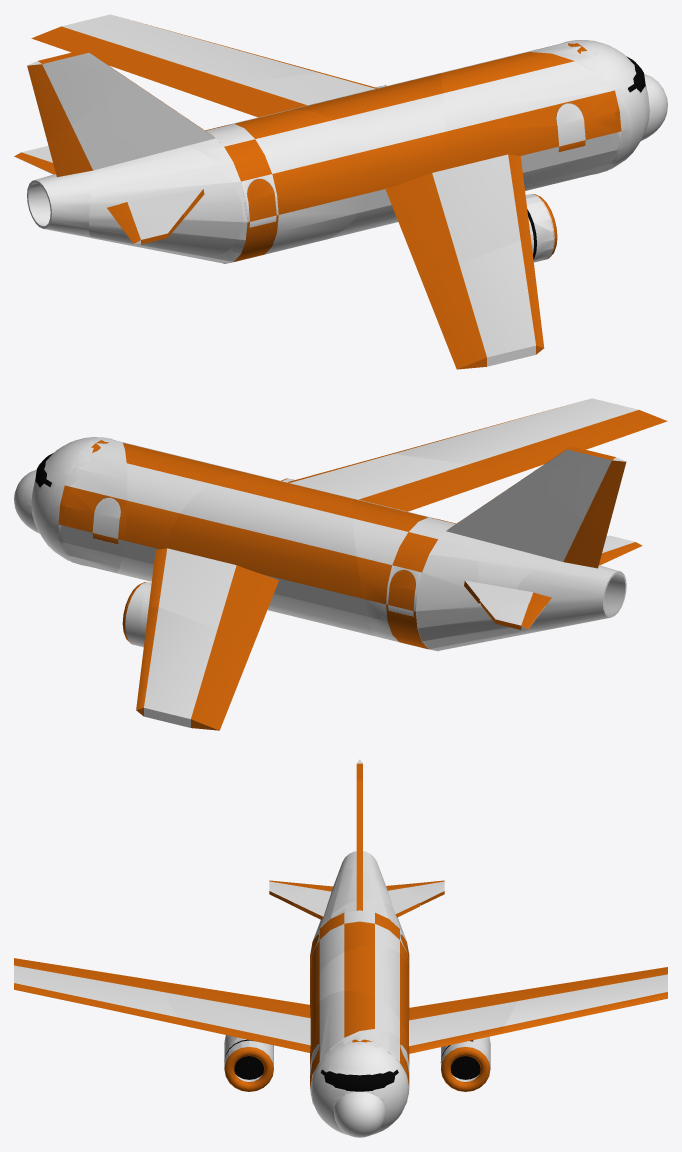
Rendered from planeabouttodroplol.fbx.
The picture shows the model from 3 angles, top to bottom: view 1: azimuth 30°, elevation 25°; view 2: azimuth 150°, elevation 25°; view 3: azimuth 270°, elevation 25°; orthographic projection. The views are drawn at different scales.
Parts seen in each view (by area): view 1: polySurface37, polySurface38, polySurface11, polySurface12, polySurface40, polySurface43, polySurface14, polySurface35, polySurface34, polySurface36, polySurface13, polySurface39 (+7 smaller); view 2: polySurface40, polySurface38, polySurface36, polySurface14, polySurface12, polySurface13, polySurface37, polySurface35, polySurface11, polySurface39, polySurface34, polySurface43 (+6 smaller); view 3: polySurface36, polySurface11, polySurface14, polySurface12, polySurface40, polySurface13, polySurface38, polySurface37, polySurface17, polySurface43, polySurface23, polySurface33 (+7 smaller).
Part boxes in pixels (x1,y1,x2,y2): polySurface37: (440,52,629,190); polySurface38: (187,109,367,263); polySurface11: (385,154,530,281); polySurface12: (422,240,544,369); polySurface40: (280,73,446,238); polySurface43: (89,146,243,257); polySurface14: (31,14,330,94); polySurface35: (47,80,215,177); polySurface34: (27,49,129,141); polySurface36: (515,40,667,169); polySurface13: (193,72,377,117); polySurface39: (27,170,95,237); polySurface40: (167,473,374,635); polySurface38: (352,499,483,651); polySurface36: (14,437,127,573); polySurface14: (136,607,252,730); polySurface12: (381,398,667,474); polySurface13: (148,548,278,646); polySurface37: (117,442,261,581); polySurface35: (446,476,606,568); polySurface11: (288,454,512,511); polySurface39: (517,560,626,629); polySurface34: (526,446,626,534); polySurface43: (478,540,554,641); polySurface36: (312,1029,409,1137); polySurface11: (157,980,310,1052); polySurface14: (502,967,667,1033); polySurface12: (14,958,179,1024); polySurface40: (310,944,409,1043); polySurface13: (409,989,524,1053); polySurface38: (310,898,409,997); polySurface37: (310,990,409,1105); polySurface17: (225,1037,273,1091); polySurface43: (314,868,393,937); polySurface23: (441,1044,490,1091); polySurface33: (293,884,332,919).
Bounding box in the file's own units: 21.61 × 7.88 × 26.32.
